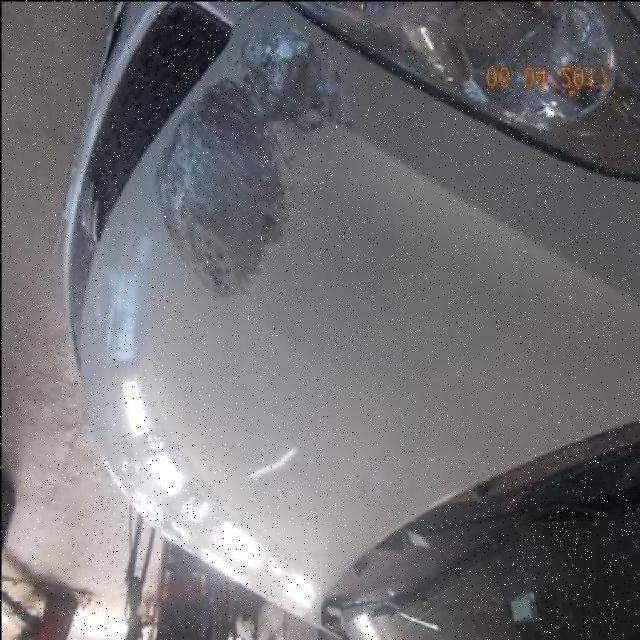damage: (146, 20, 343, 298)
